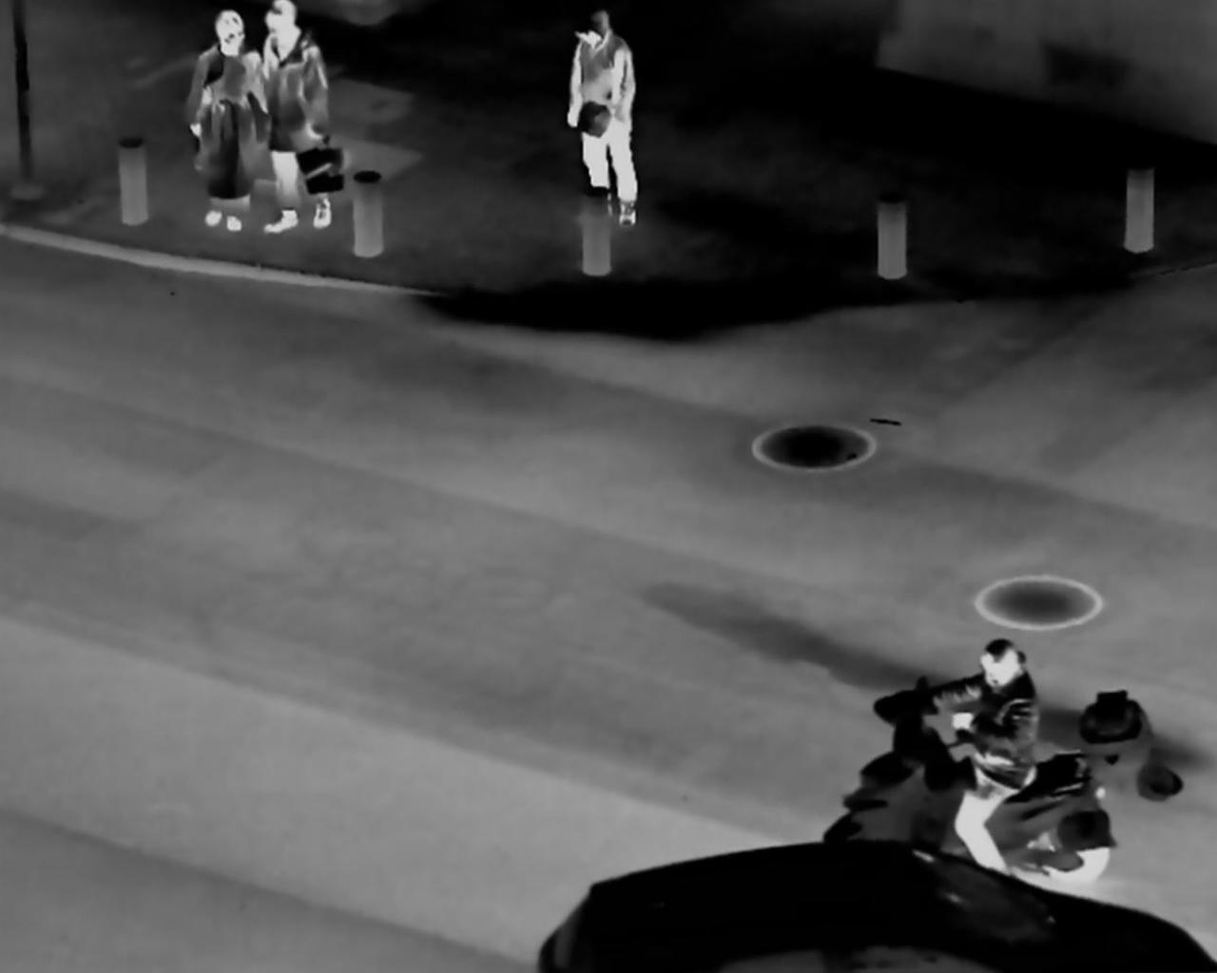person: (918, 618, 1051, 870), (555, 12, 647, 234), (184, 9, 266, 245)
